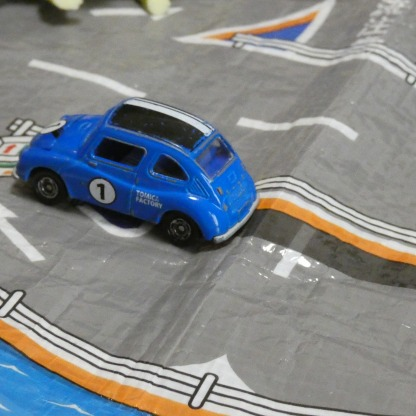car: (19, 97, 261, 249)
